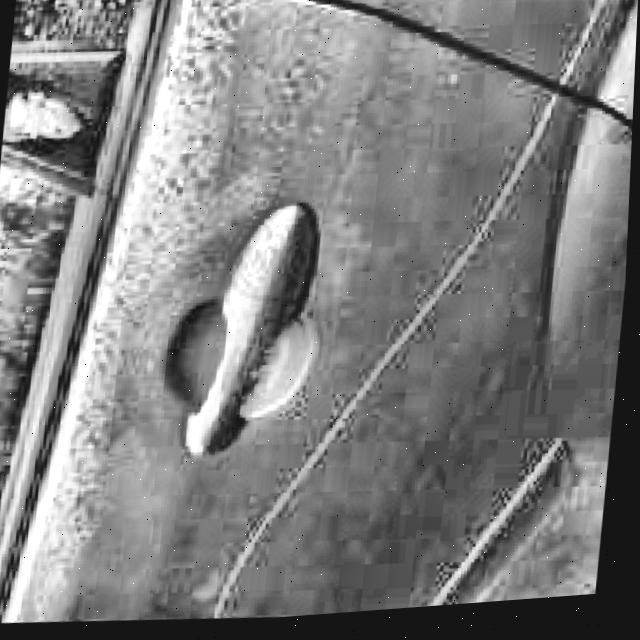door_dent: (56, 492, 204, 629)
